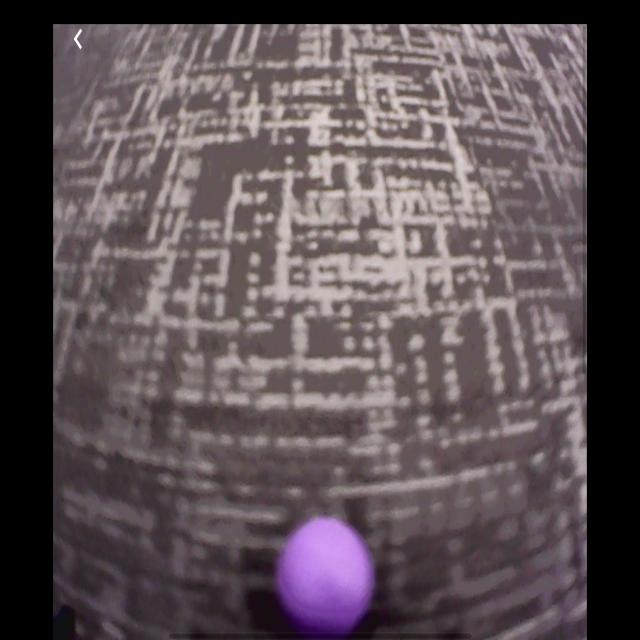ball: (280, 520, 372, 634)
